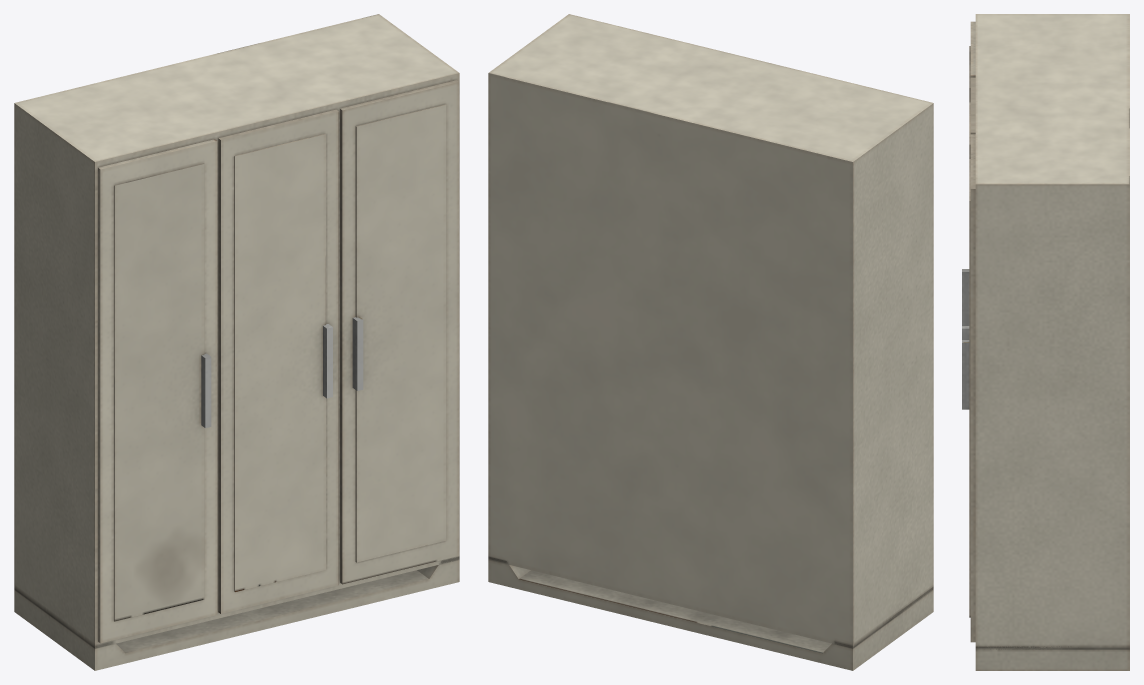
Rendered from H_Wardrobe_Cream.fbx.
3 renders of one model, left to right at view 1: azimuth 30°, elevation 25°; view 2: azimuth 150°, elevation 25°; view 3: azimuth 270°, elevation 25°, orthographic. The views are drawn at different scales.
Parts seen in each view (by area): view 1: H_Wardrobe_Cream; view 2: H_Wardrobe_Cream; view 3: H_Wardrobe_Cream.
Part boxes in pixels (x1,y1,x2,y2): H_Wardrobe_Cream: (14,14,459,670); H_Wardrobe_Cream: (488,14,933,670); H_Wardrobe_Cream: (962,14,1129,670).
Bounding box in the file's own units: 600 × 800 × 250.
1 material, 1 textured.
